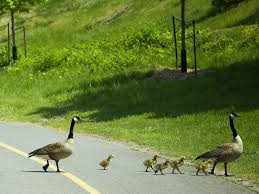goose: (22, 113, 86, 175), (192, 109, 246, 179)
